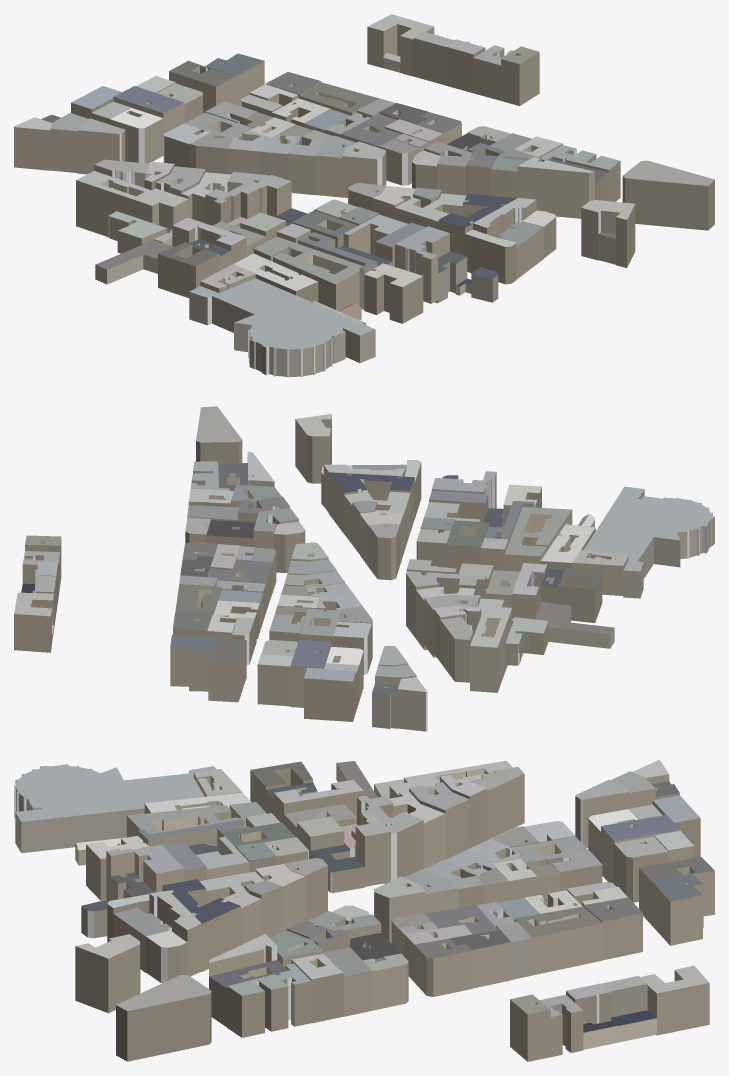
The picture shows the model from 3 angles, top to bottom: view 1: azimuth 30°, elevation 25°; view 2: azimuth 150°, elevation 25°; view 3: azimuth 270°, elevation 25°; orthographic projection. The views are drawn at different scales.
Parts seen in each view (by area): view 1: tuile; view 2: tuile; view 3: tuile.
Part boxes in pixels (x1=…): tuile: x1=14, y1=14, x2=714, y2=377; tuile: x1=14, y1=406, x2=714, y2=731; tuile: x1=14, y1=760, x2=714, y2=1061.
Size of the model in its own units: 287 by 33.13 by 295.
